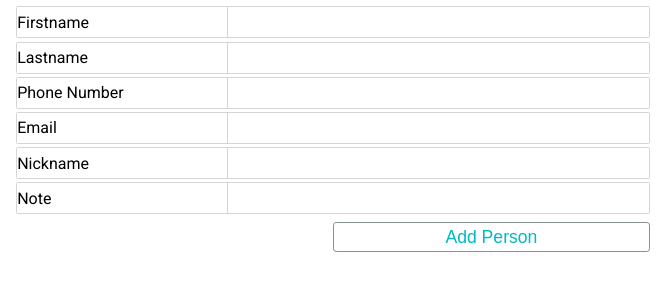
Test: <CreatePerson /> › should get error from server
The image size is (667, 287).
Click the button. click: click(491, 237)
box: [333,222,650,252]
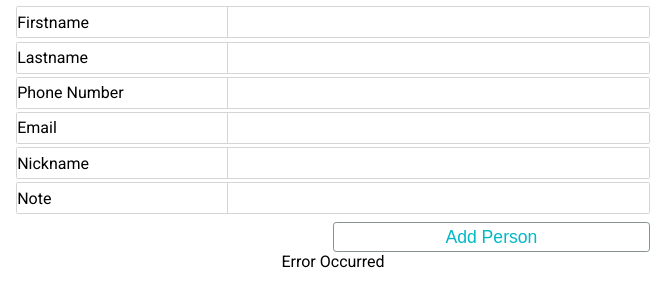
Now the text "Error Occurred" is shown, box [282,252,385,271]
